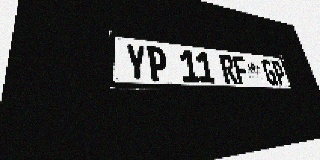1: (178, 49, 200, 83), (194, 51, 215, 83)
F: (232, 56, 251, 84)
G: (261, 59, 278, 85)
P: (146, 45, 169, 82), (270, 60, 288, 85)
R: (219, 54, 239, 84)
Y: (125, 43, 148, 81)
